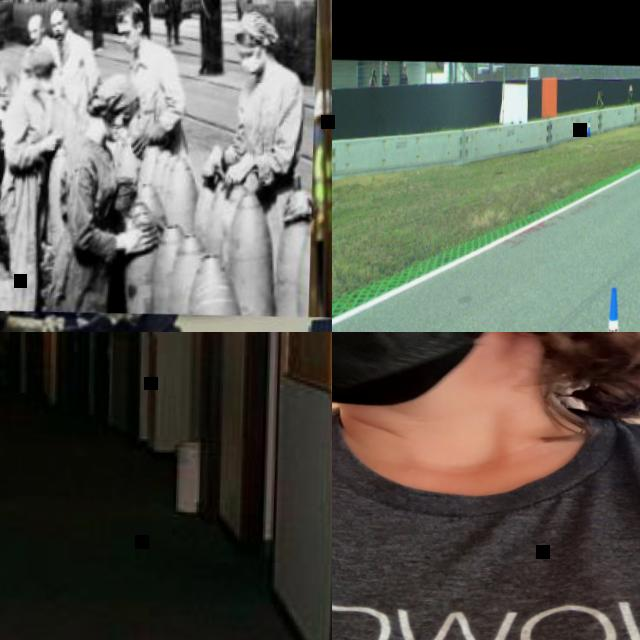Hardhat: (315, 88, 332, 121)
Mask: (332, 332, 522, 413), (106, 124, 128, 144), (240, 57, 263, 76), (314, 124, 328, 147), (120, 38, 137, 53), (38, 78, 53, 94)
NO-Hardhat: (89, 73, 141, 114), (231, 11, 277, 46), (22, 49, 59, 77), (114, 1, 146, 25), (48, 7, 68, 24), (28, 13, 43, 27), (599, 86, 602, 92), (629, 87, 632, 93)
NO-Safety Vest: (332, 398, 640, 640), (61, 137, 119, 255), (234, 69, 284, 152), (12, 86, 49, 172), (126, 48, 169, 119), (51, 37, 83, 91), (32, 38, 53, 54), (597, 95, 602, 109), (627, 92, 632, 104)
Person: (332, 332, 640, 640), (51, 70, 164, 315), (218, 11, 307, 189), (0, 48, 59, 312), (108, 0, 192, 152), (308, 93, 332, 319), (45, 4, 101, 89), (0, 15, 16, 276), (20, 13, 56, 48), (160, 0, 184, 47), (232, 0, 252, 18), (596, 84, 603, 111), (626, 86, 632, 105)
Safety Cone: (594, 286, 630, 332), (586, 119, 590, 137)
Safety Vest: (312, 140, 332, 231)
